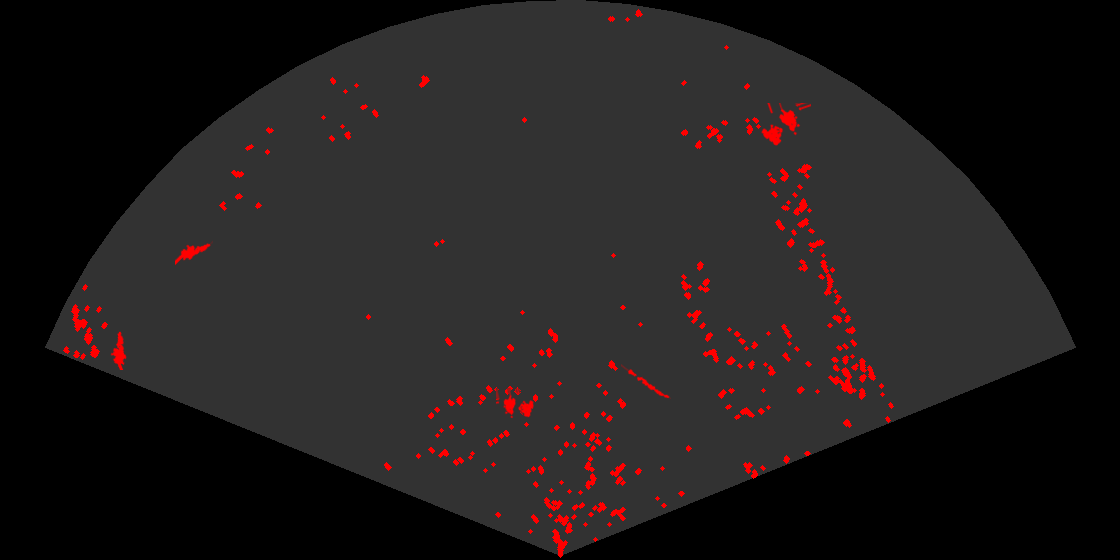cage: (760, 103, 811, 147), (496, 388, 536, 420)
chain: (621, 364, 671, 400)
frogman: (175, 239, 213, 267), (109, 330, 128, 370)
